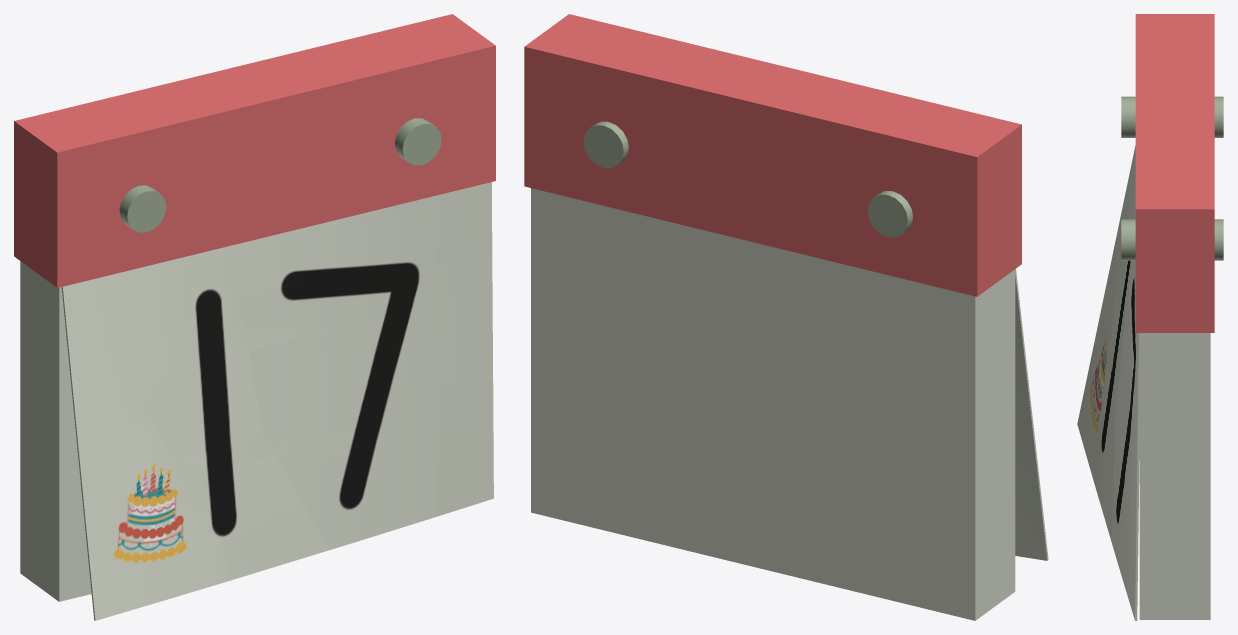
Rendered from Calendar.fbx.
3 renders of one model, left to right at view 1: azimuth 30°, elevation 25°; view 2: azimuth 150°, elevation 25°; view 3: azimuth 270°, elevation 25°, orthographic. The views are drawn at different scales.
Visible parts, largest first — view 1: CalendarMainBody, CalendarBirthdayOriginal, CalendarBlock001.005, CalendarBlock001.004, CalendarBlock001.001, CalendarBlock001.003, CalendarBlock001.007, CalendarBlock001.006; view 2: CalendarMainBody, CalendarBlock001.004, CalendarBirthdayOriginal; view 3: CalendarMainBody, CalendarBirthdayOriginal, CalendarBlock001.005, CalendarBlock001.004, CalendarBlock001.003, CalendarBlock001.007, CalendarBlock001.001, CalendarBlock001.006.
Part boxes in pixels (x1=…): CalendarMainBody: x1=14, y1=14, x2=495, y2=601; CalendarBirthdayOriginal: x1=61, y1=182, x2=493, y2=620; CalendarBlock001.005: x1=239, y1=270, x2=435, y2=549; CalendarBlock001.004: x1=79, y1=463, x2=240, y2=620; CalendarBlock001.001: x1=115, y1=305, x2=261, y2=459; CalendarBlock001.003: x1=174, y1=449, x2=328, y2=573; CalendarBlock001.007: x1=436, y1=248, x2=493, y2=516; CalendarBlock001.006: x1=75, y1=363, x2=174, y2=463; CalendarMainBody: x1=524, y1=14, x2=1021, y2=620; CalendarBlock001.004: x1=1015, y1=420, x2=1046, y2=552; CalendarBirthdayOriginal: x1=1015, y1=269, x2=1048, y2=560; CalendarMainBody: x1=1121, y1=14, x2=1223, y2=619; CalendarBirthdayOriginal: x1=1078, y1=145, x2=1141, y2=620; CalendarBlock001.005: x1=1111, y1=267, x2=1134, y2=591; CalendarBlock001.004: x1=1077, y1=326, x2=1107, y2=500; CalendarBlock001.003: x1=1100, y1=357, x2=1115, y2=539; CalendarBlock001.007: x1=1126, y1=333, x2=1141, y2=620; CalendarBlock001.001: x1=1109, y1=261, x2=1125, y2=392; CalendarBlock001.006: x1=1105, y1=268, x2=1115, y2=354.
Size of the model in its own units: 115 by 113 by 36.46.
Materials: 2 (2 with a texture image).
